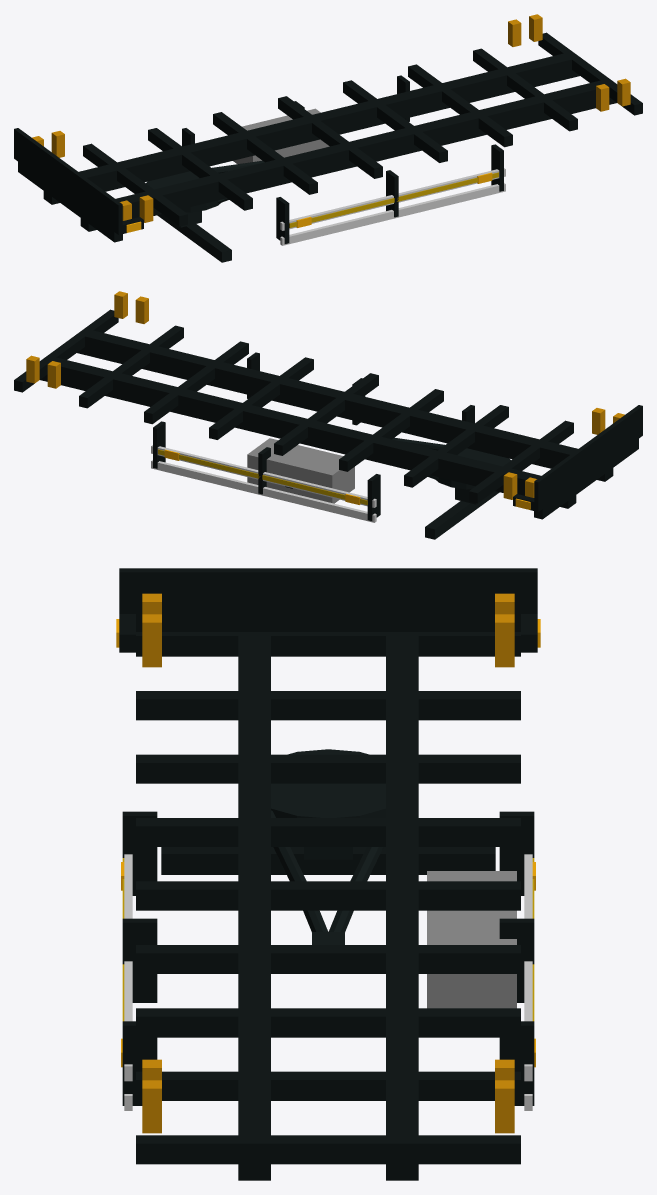
The model's file is krone-azw-18-trailer.glb.
3 renders of one model, top to bottom at view 1: azimuth 30°, elevation 25°; view 2: azimuth 150°, elevation 25°; view 3: azimuth 270°, elevation 25°, orthographic. The views are drawn at different scales.
Visible parts, largest first — view 1: trailer, dolly, trailer-lens; view 2: trailer, dolly, trailer-lens; view 3: trailer, dolly.
Part boxes in pixels (x1=…): trailer: x1=14, y1=14, x2=642, y2=252; dolly: x1=146, y1=160, x2=264, y2=262; trailer-lens: x1=126, y1=172, x2=492, y2=232; trailer: x1=14, y1=291, x2=642, y2=529; dolly: x1=392, y1=437, x2=510, y2=539; trailer-lens: x1=164, y1=449, x2=530, y2=509; trailer: x1=119, y1=568, x2=537, y2=1180; dolly: x1=271, y1=749, x2=385, y2=944.
Size of the model in its own units: 7.44 by 1.25 by 2.59.
